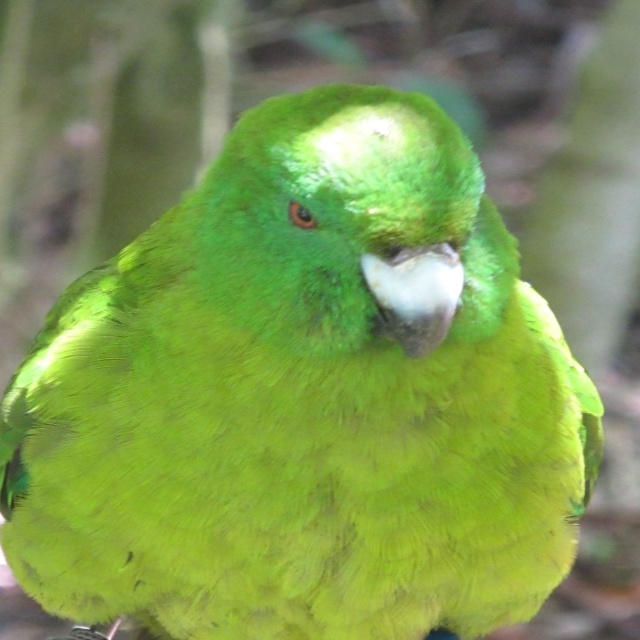Parrot: (0, 83, 604, 640)
